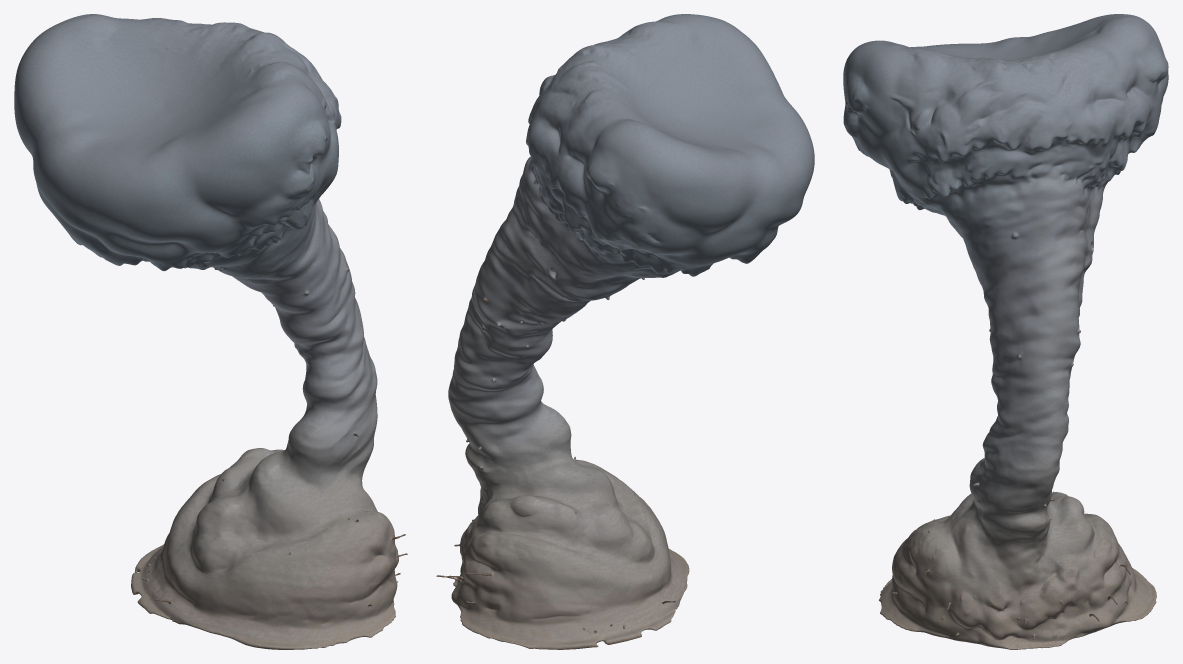
File: tornado-3d-model-d41ad58d.glb
3 renders of one model, left to right at view 1: azimuth 30°, elevation 25°; view 2: azimuth 150°, elevation 25°; view 3: azimuth 270°, elevation 25°, orthographic. The views are drawn at different scales.
Visible parts, largest first — view 1: tripo_node_8e9749a5-6bc6-458c-8795-357174d0bc57; view 2: tripo_node_8e9749a5-6bc6-458c-8795-357174d0bc57; view 3: tripo_node_8e9749a5-6bc6-458c-8795-357174d0bc57.
Boxes of the visible parts, x1,y1,x2,y2 form: tripo_node_8e9749a5-6bc6-458c-8795-357174d0bc57: [14, 14, 407, 649]; tripo_node_8e9749a5-6bc6-458c-8795-357174d0bc57: [436, 14, 814, 649]; tripo_node_8e9749a5-6bc6-458c-8795-357174d0bc57: [843, 14, 1168, 649].
Size of the model in its own units: 0.6243 by 1 by 0.5548.
Materials: 1 (1 with a texture image).
